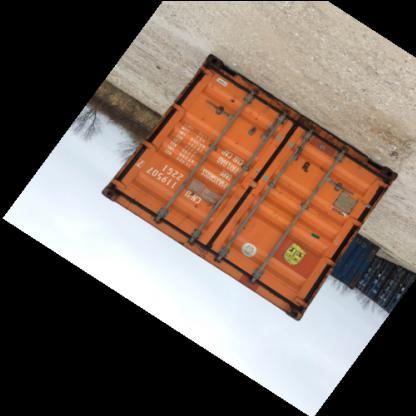Damage: (209, 169, 268, 227), (94, 176, 126, 204), (291, 148, 315, 182), (224, 87, 243, 111), (285, 302, 305, 320)
